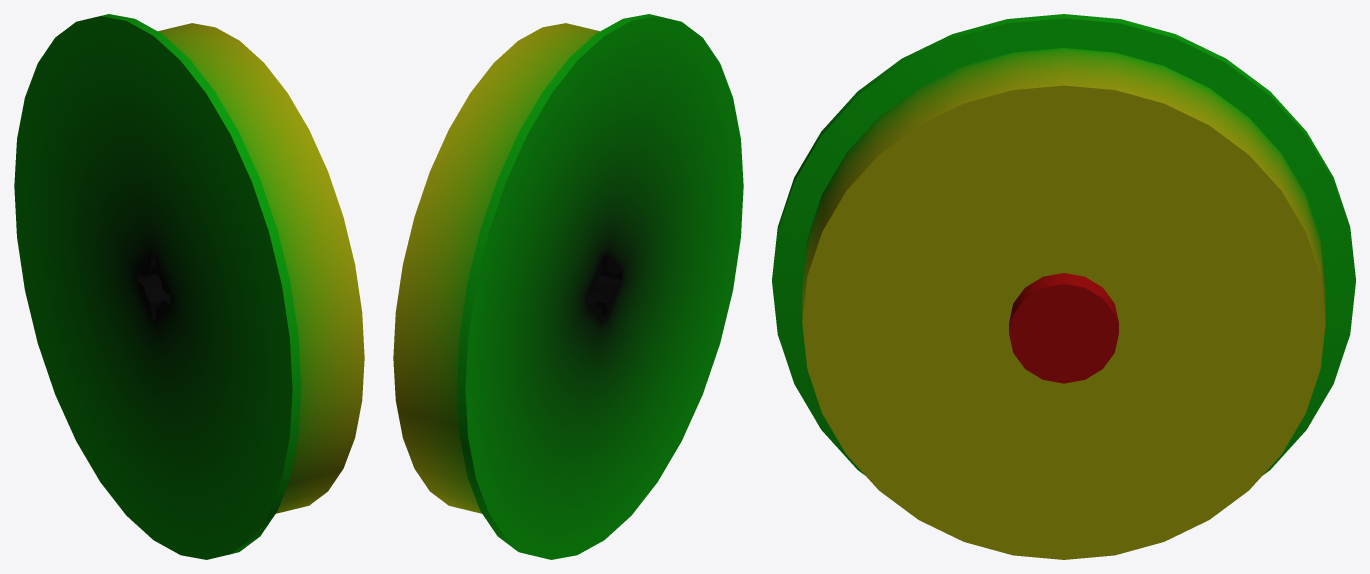
File: SM_TrainWheel_4x2s.gltf
The picture shows the model from 3 angles, left to right: view 1: azimuth 30°, elevation 25°; view 2: azimuth 150°, elevation 25°; view 3: azimuth 270°, elevation 25°; orthographic projection. The views are drawn at different scales.
Visible parts, largest first — view 1: SM_TrainWheel_4x2s; view 2: SM_TrainWheel_4x2s; view 3: SM_TrainWheel_4x2s.
Boxes of the visible parts, x1=… form: SM_TrainWheel_4x2s: x1=14, y1=14, x2=364, y2=559; SM_TrainWheel_4x2s: x1=393, y1=14, x2=743, y2=559; SM_TrainWheel_4x2s: x1=772, y1=14, x2=1355, y2=559.
Bounding box in the file's own units: 0.25 × 1.12 × 1.12.
